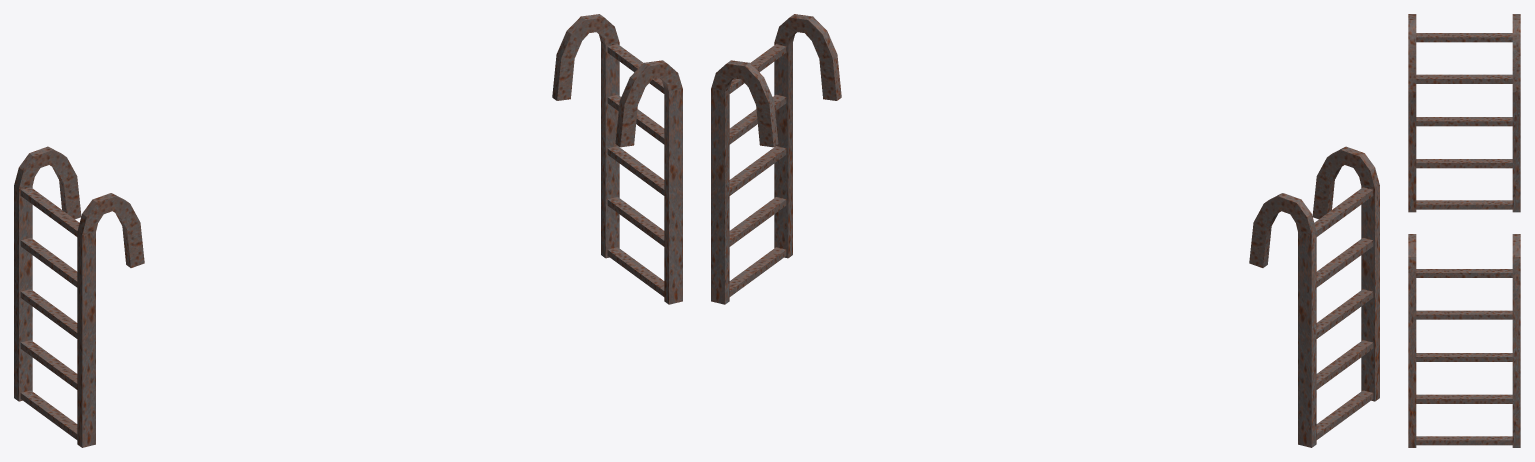
The model's file is SM_NeoLD_09_Ladder_00.fbx.
3 views of the same model, side by side, from view 1: azimuth 30°, elevation 25°; view 2: azimuth 150°, elevation 25°; view 3: azimuth 270°, elevation 25° (orthographic). The views are drawn at different scales.
Parts seen in each view (by area): view 1: SM_NeoLD_09_Ladder_00; view 2: SM_NeoLD_09_Ladder_00; view 3: SM_NeoLD_09_Ladder_00.
Part boxes in pixels (x1=…): SM_NeoLD_09_Ladder_00: x1=14, y1=14, x2=682, y2=447; SM_NeoLD_09_Ladder_00: x1=711, y1=14, x2=1379, y2=447; SM_NeoLD_09_Ladder_00: x1=1408, y1=14, x2=1520, y2=447.
Size of the model in its own units: 759 by 294 by 149.
